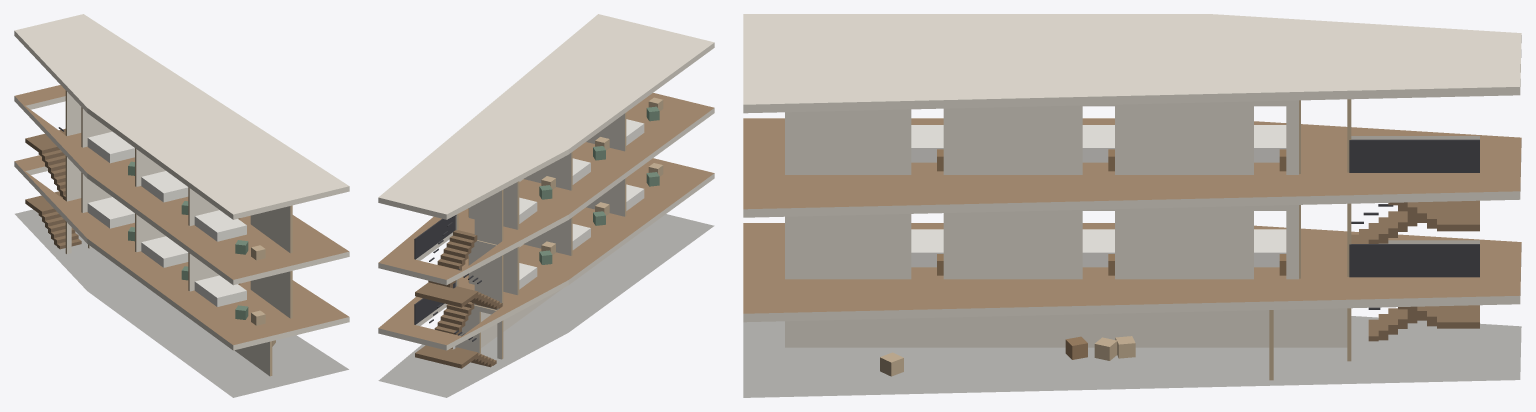
Rendered from interior.glb.
3 renders of one model, left to right at view 1: azimuth 30°, elevation 25°; view 2: azimuth 150°, elevation 25°; view 3: azimuth 270°, elevation 25°, orthographic. The views are drawn at different scales.
Visible parts, largest first — view 1: slabs, partitions, coarse-s2, coarse-s1, stair; view 2: slabs, partitions, stair, coarse-s2, coarse-s1; view 3: slabs, partitions, stair, coarse-s1, coarse-s2, coarse-s0.
Boxes of the visible parts, box(x1,y1,x2,y2) form: slabs: box(14, 14, 349, 397); partitions: box(65, 90, 292, 376); coarse-s2: box(87, 131, 265, 260); coarse-s1: box(87, 197, 265, 325); stair: box(25, 127, 81, 249); slabs: box(378, 14, 714, 397); partitions: box(455, 113, 626, 359); stair: box(414, 215, 502, 368); coarse-s2: box(519, 97, 663, 223); coarse-s1: box(519, 163, 663, 289); slabs: box(743, 14, 1521, 397); partitions: box(785, 99, 1351, 380); stair: box(1349, 139, 1479, 341); coarse-s1: box(911, 229, 1286, 275); coarse-s2: box(911, 125, 1286, 171); coarse-s0: box(880, 336, 1135, 376).
Bounding box in the file's own units: 5.96 × 9 × 21.6.
